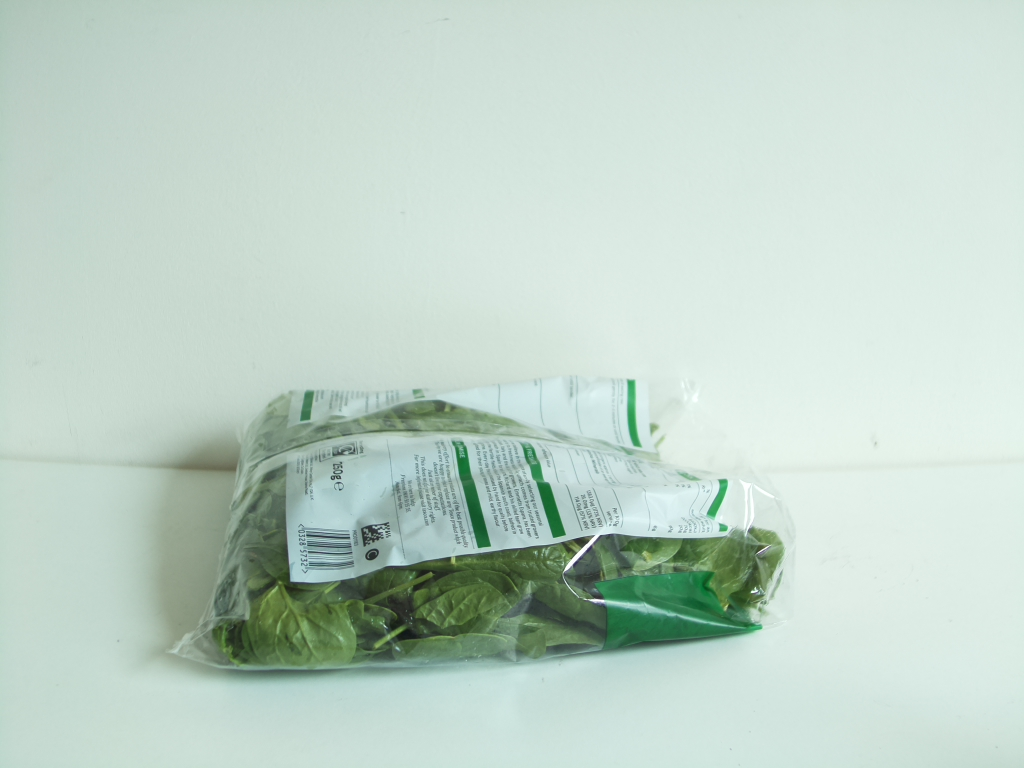salad: (196, 373, 782, 668)
